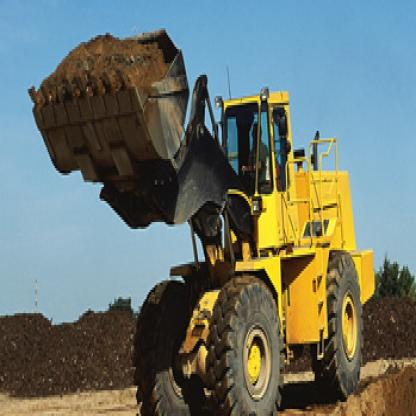bull_dozer/loader/grader: (26, 12, 378, 414)
